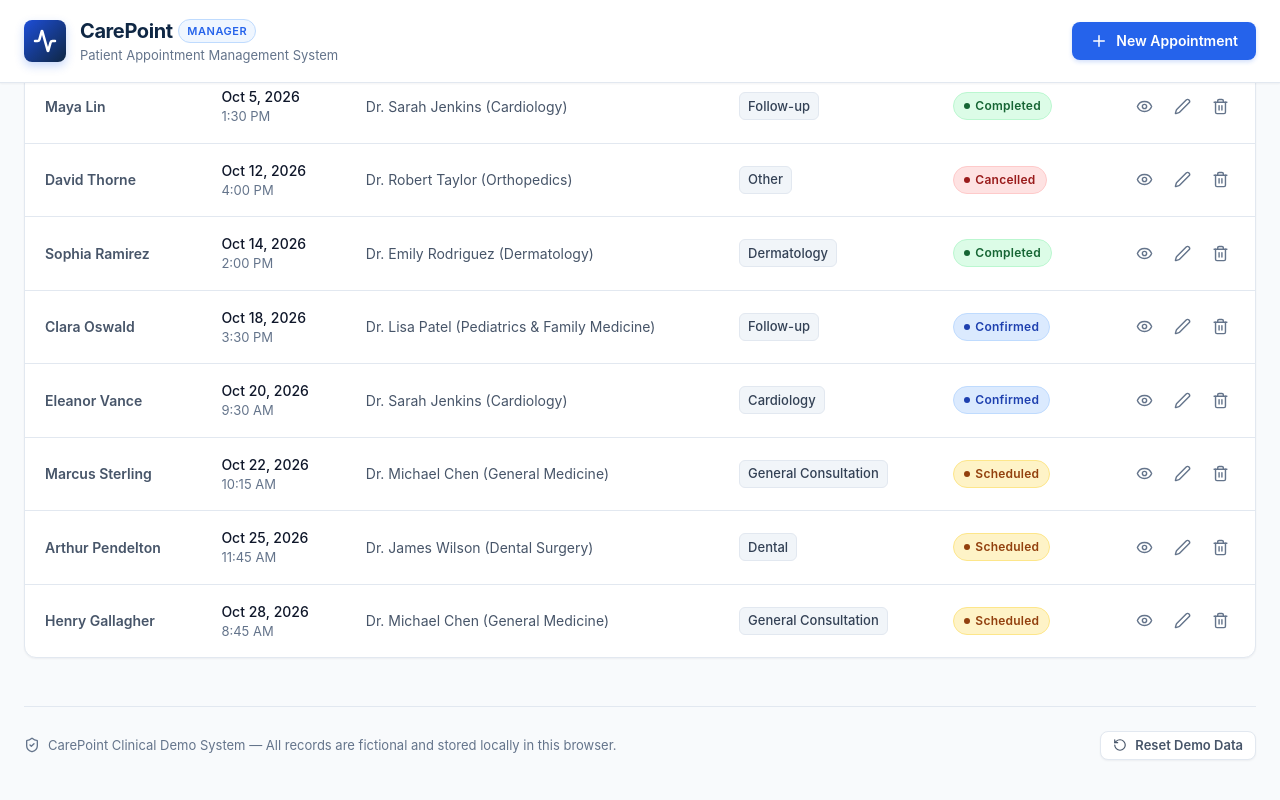
Scenario: CarePoint Dashboard Component Integration Tests › opens delete confirmation and cancels deletion without removing the appointment
(page scrolled)
Click the button with test id "delete-apt-apt-demo-01" at (1220, 400), box [1205,385,1235,415]
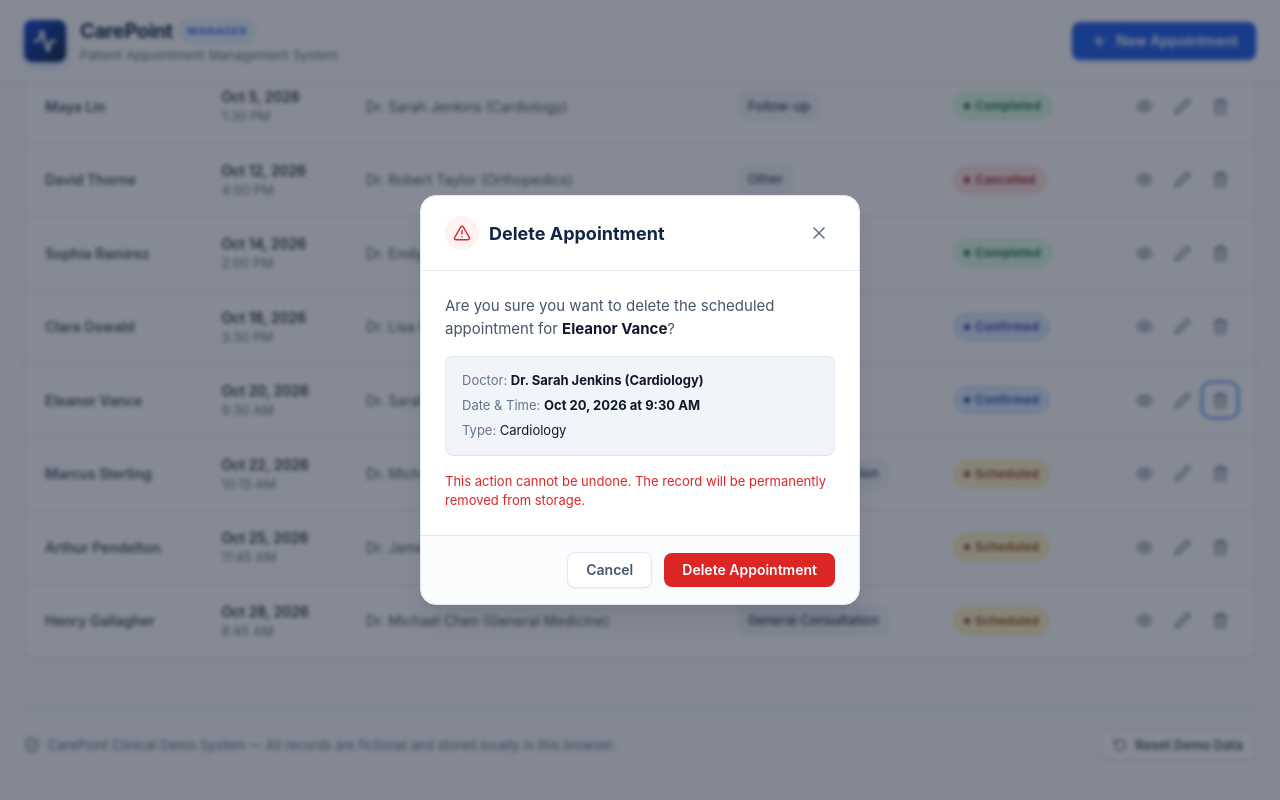
Expected: the dialog with test id "delete-confirm-modal" is shown, [420,195,860,605]
Expected: the text "Are you sure you want to delete" is shown, [445,296,774,338]
// Click Cancel
Click the button with test id "cancel-delete-btn" at (610, 570), box [567,552,652,588]
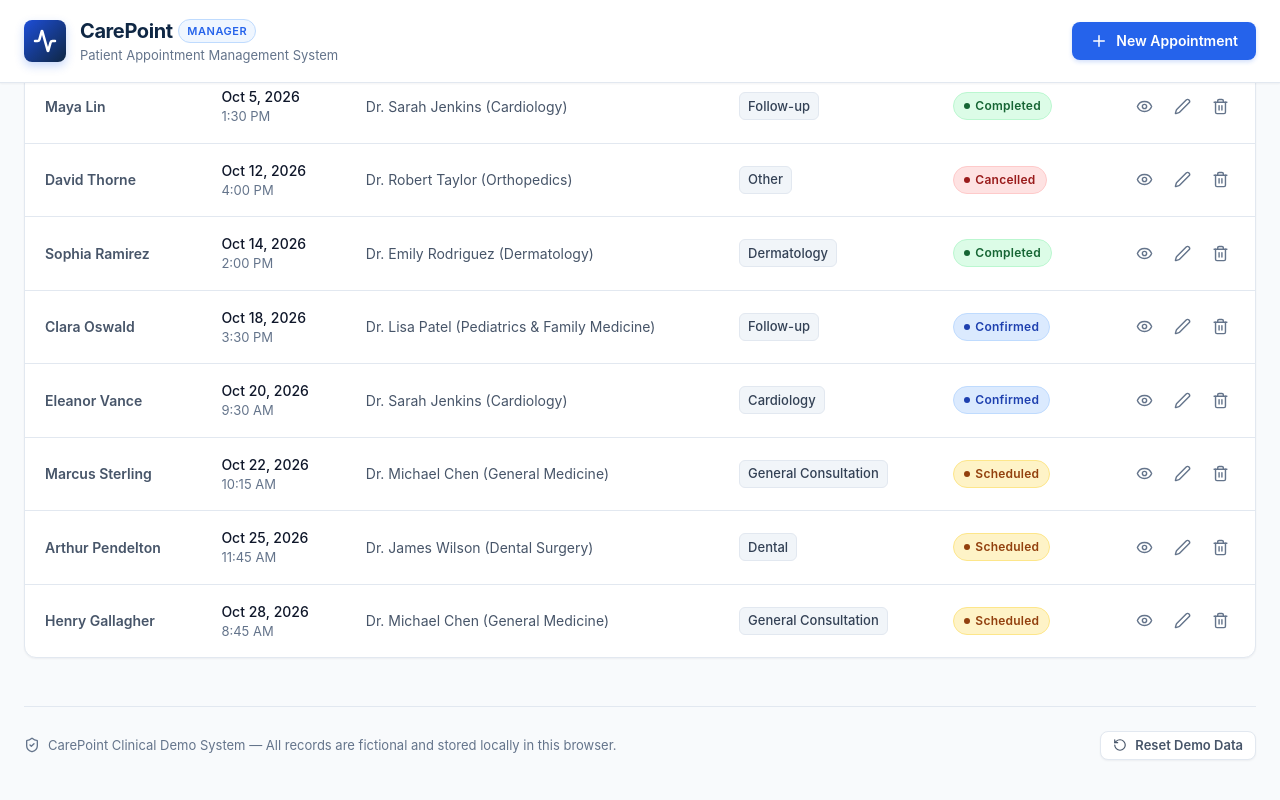
Expected: the text "Eleanor Vance" is shown, [25,364,201,437]
Expected: the dialog with test id "delete-confirm-modal" is gone
